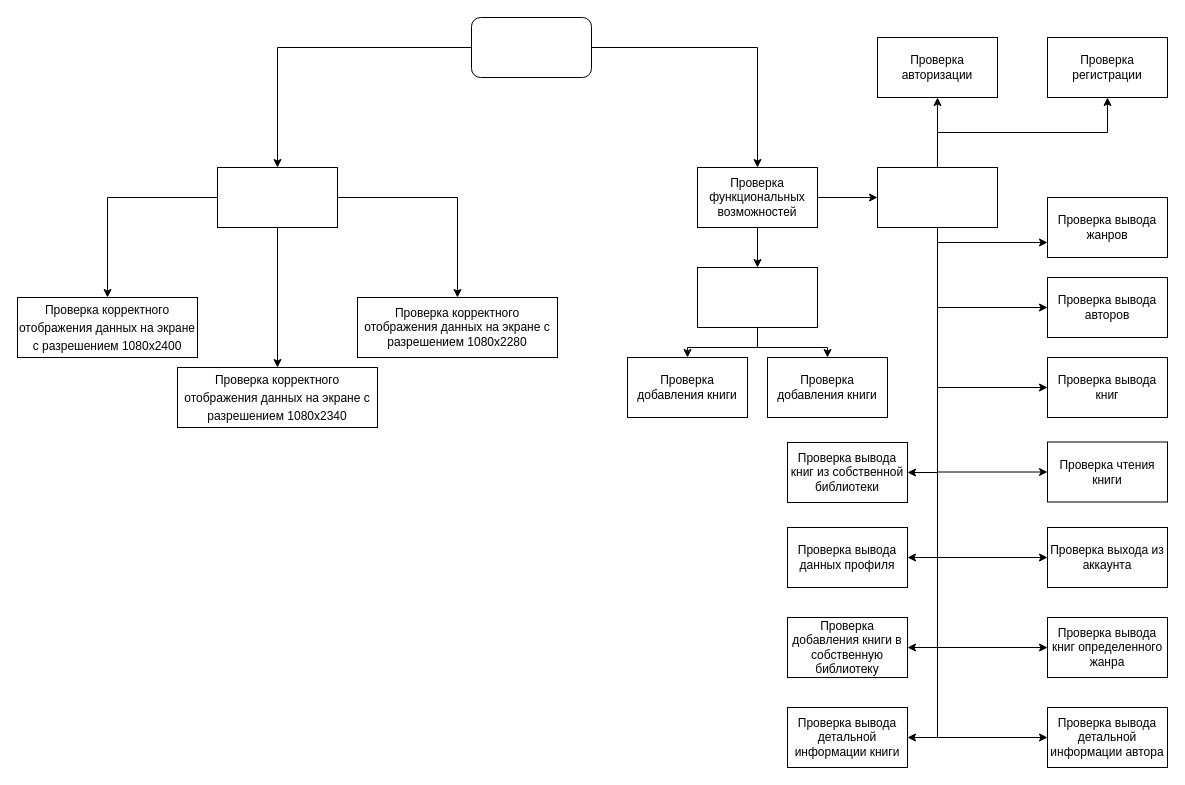
The diagram is 1185 pixels wide and 785 high, and some of its shapes have lost their labels. The centre of each missing label's shape, as x and y in pixels:
Проверка графического интерфейса: point 277,197
Проверка обших функциональных возможностей: point 937,197
Проверка функциональных возможностей администратора: point 757,297
Сценарий тестирования: point 531,47
